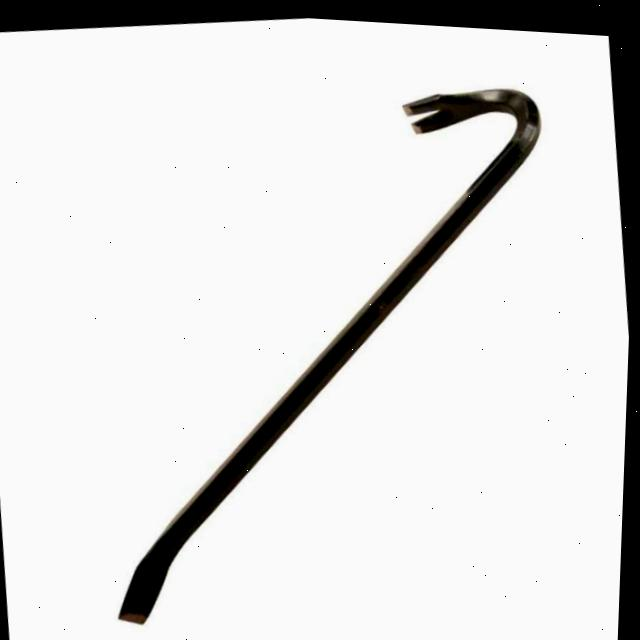crow bar: (119, 78, 554, 626)
